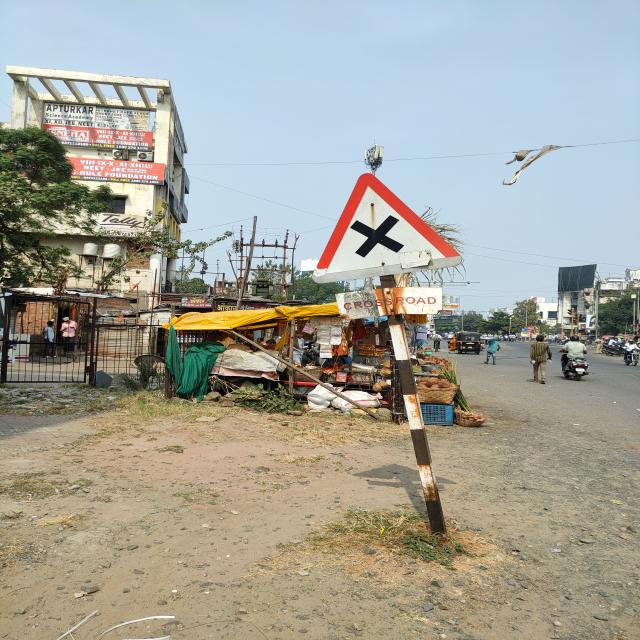cross_road: (310, 172, 463, 285)
